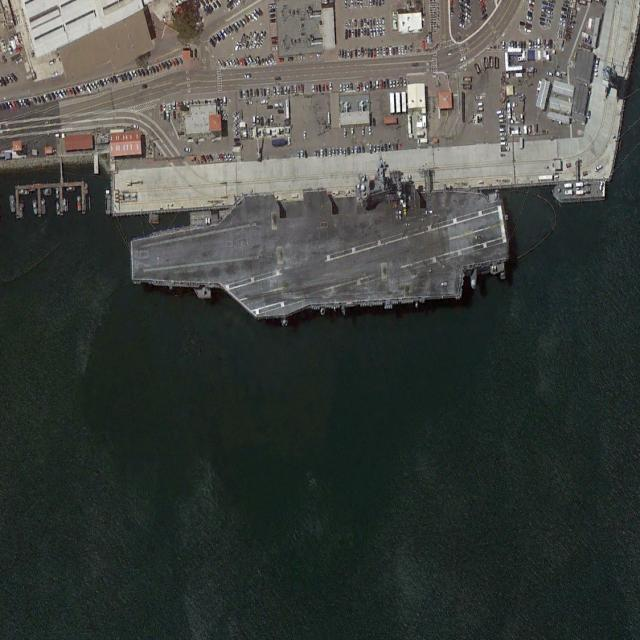Aircraft Carrier: (128, 165, 512, 330)
